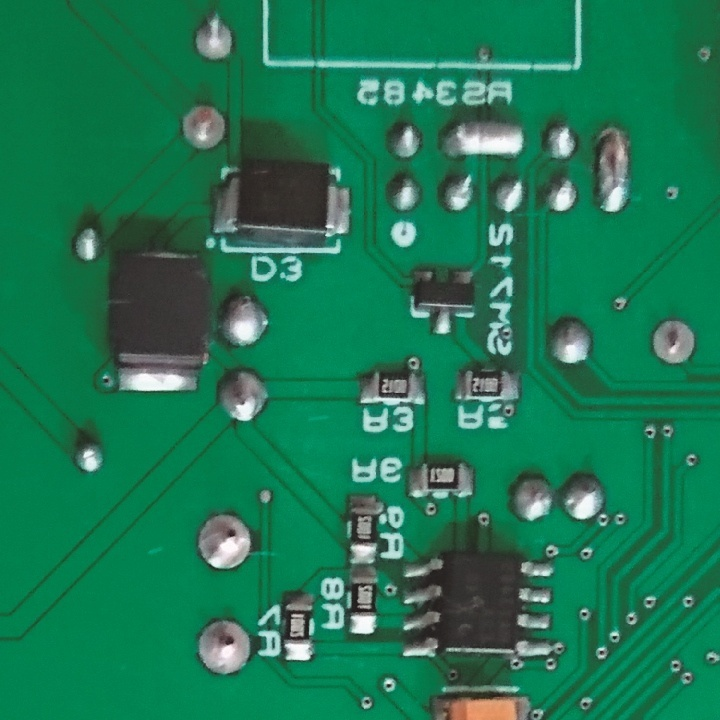F: (193, 616, 254, 679), (196, 509, 255, 574), (179, 99, 229, 156), (193, 9, 239, 67), (648, 317, 699, 369)
P: (436, 116, 530, 162), (591, 120, 633, 221)
